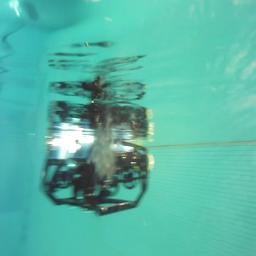front: (41, 139, 149, 216)
